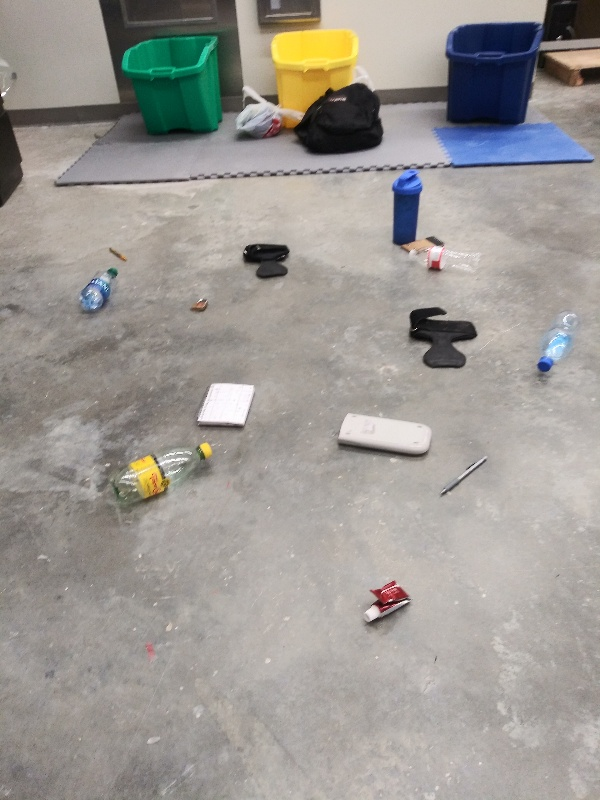bottle: (112, 441, 214, 509), (533, 307, 581, 375), (406, 244, 490, 279), (77, 265, 122, 319)
